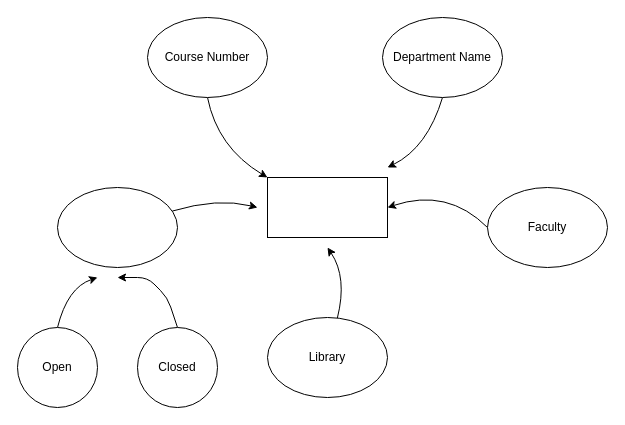
This 625x425 diagram has some shape labels left out. The box of each missing label's shape, as (x1, y1, x2, y2) in pixels:
Course: (266, 176, 388, 238)
Enrollment: (56, 186, 178, 268)
